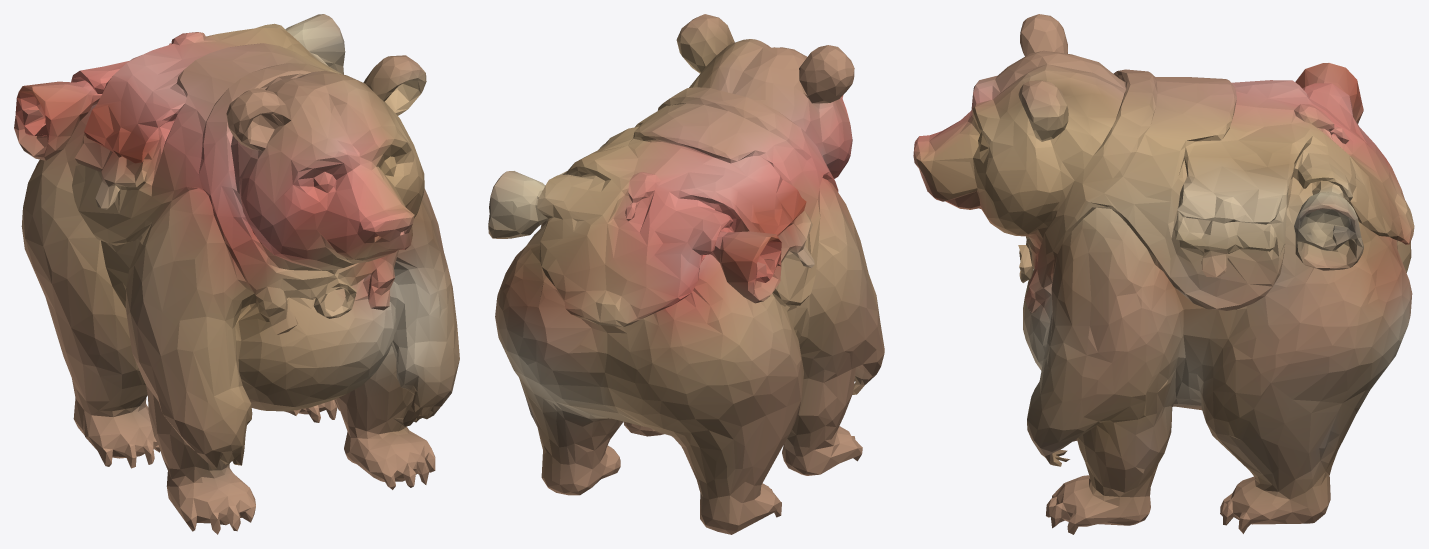
File: ayi.glb
3 renders of one model, left to right at view 1: azimuth 30°, elevation 25°; view 2: azimuth 150°, elevation 25°; view 3: azimuth 270°, elevation 25°, orthographic. The views are drawn at different scales.
Visible parts, largest first — view 1: geometry_0; view 2: geometry_0; view 3: geometry_0.
Part boxes in pixels (box(x1,y1,x2,y2)): geometry_0: box(14, 14, 459, 534); geometry_0: box(488, 14, 884, 534); geometry_0: box(913, 14, 1414, 534).
Size of the model in its own units: 0.7359 by 1 by 1.06.
